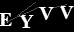E: (1, 12, 12, 27)
V: (38, 6, 54, 21), (58, 5, 74, 20)
Y: (18, 14, 35, 29)
